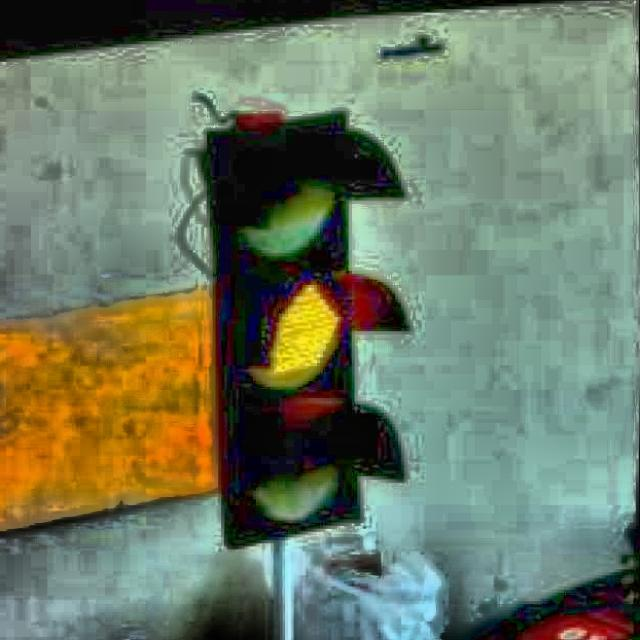yellow: (210, 103, 373, 551)
